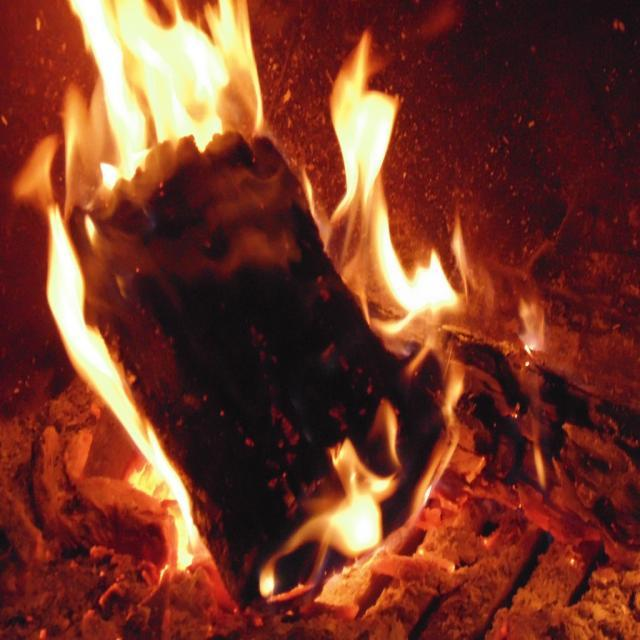Fire: (105, 22, 243, 126), (342, 86, 396, 186), (336, 476, 380, 556), (48, 258, 92, 322)
